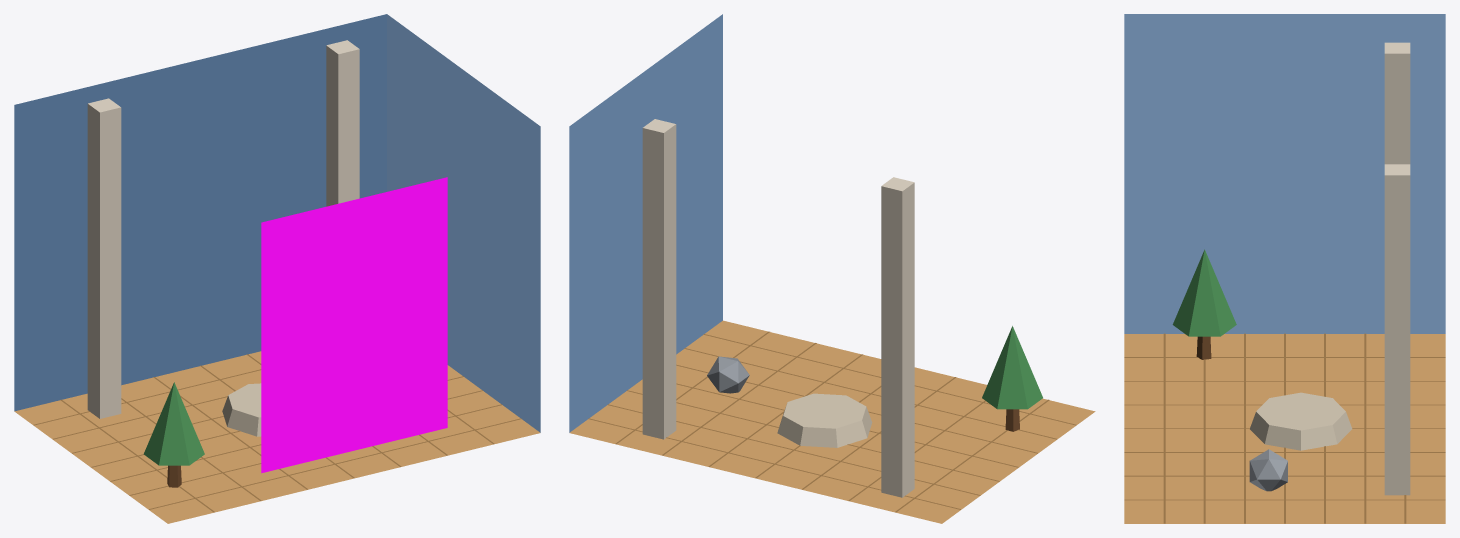
File: sample-room.glb
3 views of the same model, side by side, from view 1: azimuth 30°, elevation 25°; view 2: azimuth 150°, elevation 25°; view 3: azimuth 270°, elevation 25° (orthographic). The views are drawn at different scales.
Visible parts, largest first — view 1: WallBack, Window, WallRight, Floor, Pillar0, Pillar1, TreeLeaves, Pedestal; view 2: Floor, WallRight, Pillar1, Pillar0, Pedestal, TreeLeaves, Rock; view 3: WallLeft, Floor, Pillar1, Pedestal, Pillar0, TreeLeaves, Rock, FloorSeamX7, FloorSeamZ1, FloorSeamZ6, FloorSeamX6, FloorSeamZ2 (+2 smaller).
Boxes of the visible parts, x1,y1,x2,y2 form: WallBack: (14,14,386,411); Window: (261,177,447,473); WallRight: (387,14,540,432); Floor: (14,351,539,523); Pillar0: (87,98,121,418); Pillar1: (326,40,359,206); TreeLeaves: (143,382,204,465); Pedestal: (222,383,261,436); Floor: (570,320,1095,523); WallRight: (569,14,722,432); Pillar1: (642,119,676,439); Pillar0: (881,177,914,497); Pedestal: (777,393,872,447); TreeLeaves: (982,326,1042,409); Rock: (707,356,749,393); WallLeft: (1124,14,1445,333); Floor: (1124,334,1445,523); Pillar1: (1384,164,1410,495); Pedestal: (1250,392,1352,450); Pillar0: (1384,42,1410,164); TreeLeaves: (1172,249,1236,336); Rock: (1249,449,1287,491); FloorSeamX7: (1124,499,1445,500); FloorSeamZ1: (1163,333,1165,523); FloorSeamZ6: (1364,333,1366,523); FloorSeamX6: (1124,475,1445,476); FloorSeamZ2: (1203,359,1205,523).
Size of the model in its own units: 1.4 by 1.11 by 1.
